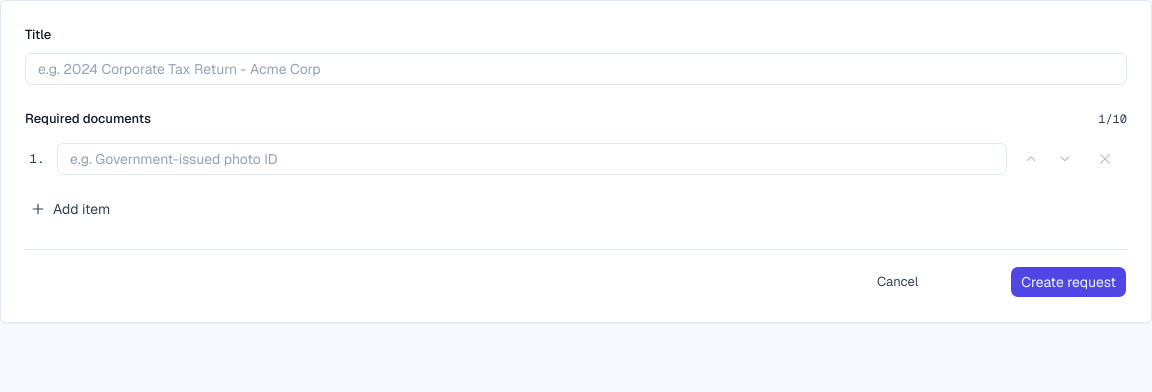
Test: NewRequestForm › adds and removes items
Click the button "Add item" at (70, 209), box [25,193,114,225]
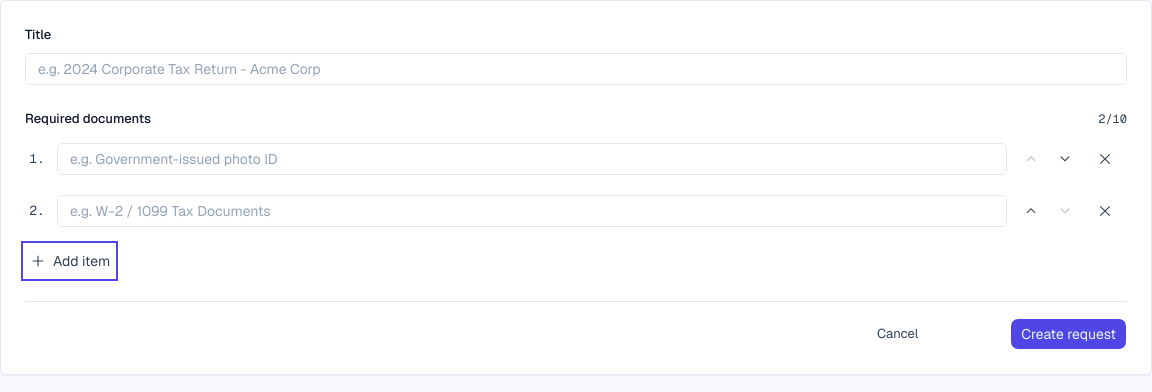
Click the button named "remove" at (1105, 211), box [1083,189,1127,233]
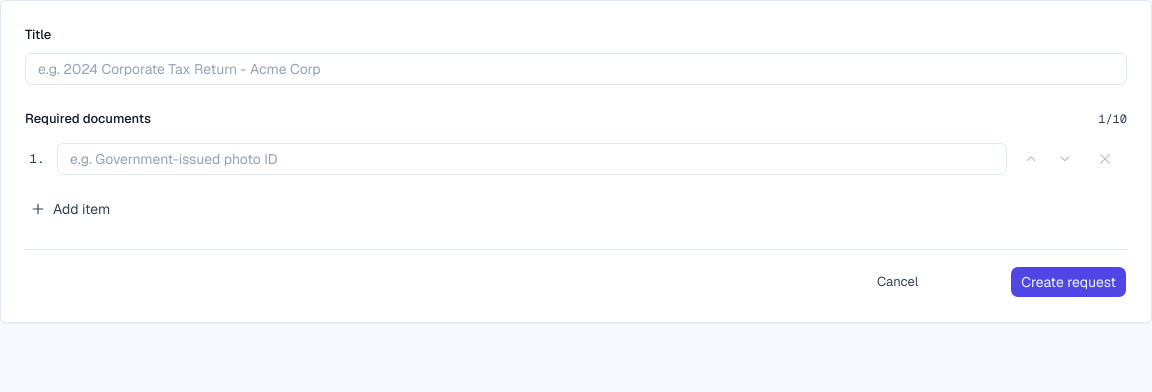
Result: the button named "remove" is disabled at [1083,137,1127,181]
